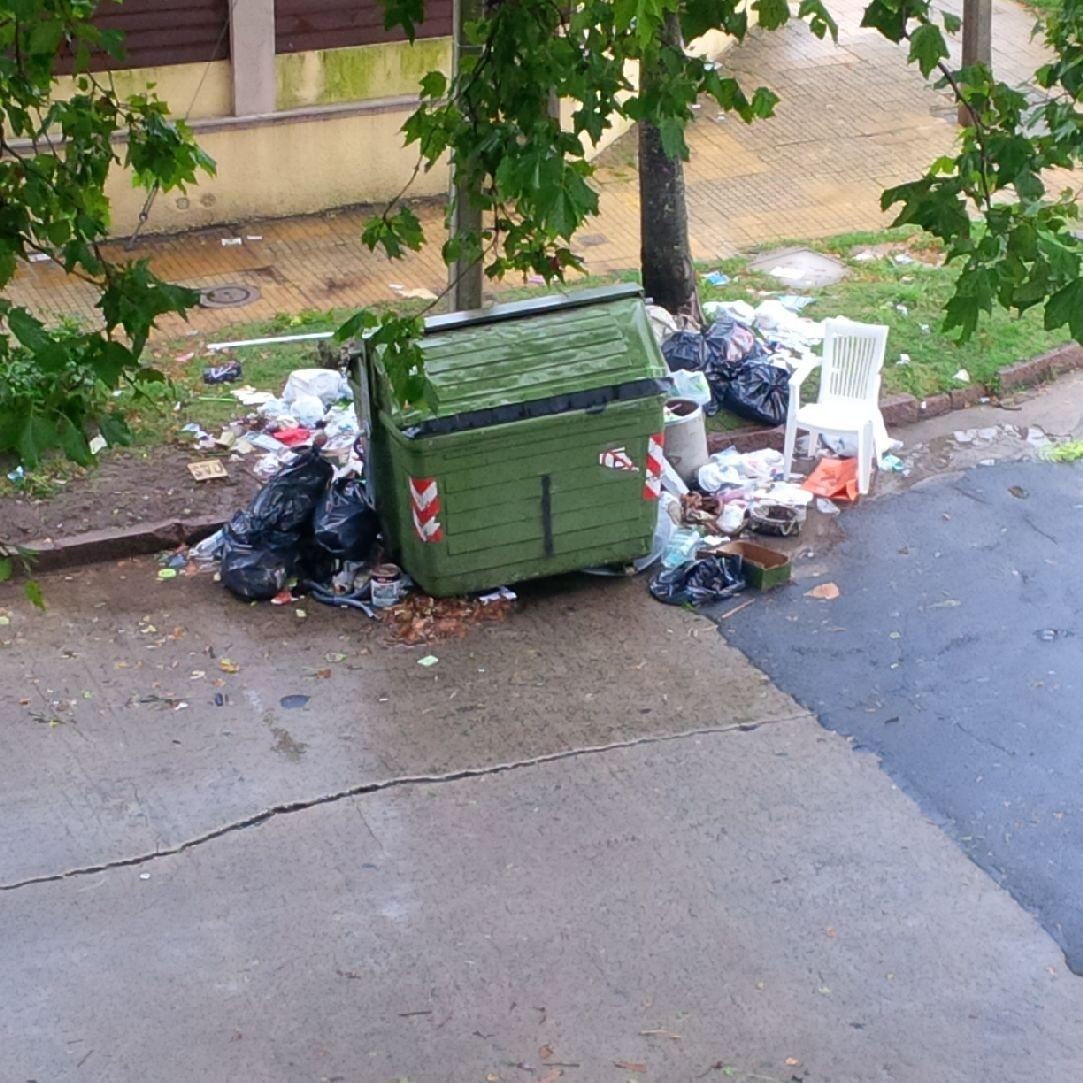Dechets: (192, 422, 388, 615), (782, 319, 887, 496), (214, 354, 359, 477), (661, 309, 794, 425), (690, 446, 811, 536), (208, 522, 312, 599), (703, 295, 824, 358), (648, 453, 702, 575), (251, 448, 327, 530), (315, 474, 379, 561), (649, 556, 755, 606), (663, 398, 708, 484), (801, 456, 860, 502), (647, 299, 700, 342), (369, 563, 405, 610), (170, 416, 217, 450), (174, 455, 226, 485), (198, 355, 244, 383), (703, 268, 733, 289), (413, 651, 443, 667), (953, 364, 976, 384), (895, 348, 915, 368)
Trash: (362, 286, 670, 597)
